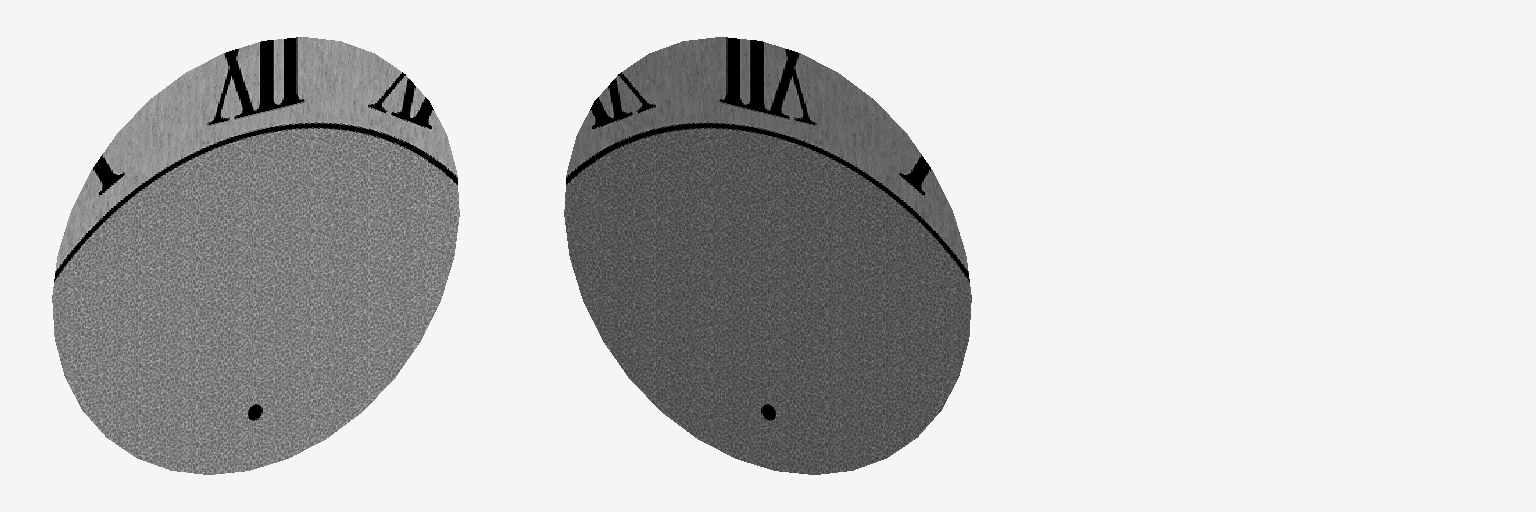
The picture shows the model from 3 angles: view 1: azimuth 30°, elevation 25°; view 2: azimuth 150°, elevation 25°; view 3: azimuth 270°, elevation 25°; orthographic projection.
Visible parts, largest first — view 1: Circle; view 2: Circle; view 3: none.
Part boxes in pixels (x1,y1,x2,y2): Circle: (52, 37, 459, 474); Circle: (564, 37, 971, 474).
Bounding box in the file's own units: 4.52 × 4.52 × 0.
Materials: 1 (1 with a texture image).